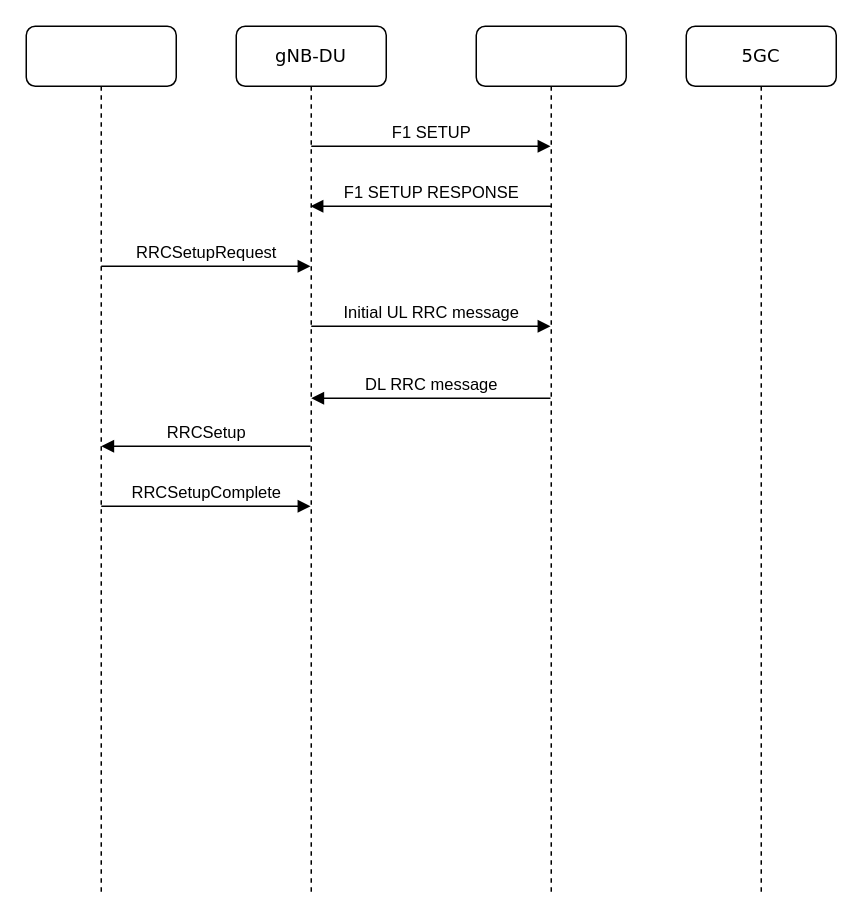
This 863x923 diagram has some shape labels left out. The shapes that lost their labels are listed below. From the top down, each one's box as (x1, y1, x2, y2) in pixels, then its label:
(25, 25, 176, 896): UE
(475, 25, 626, 896): gNB-CU
